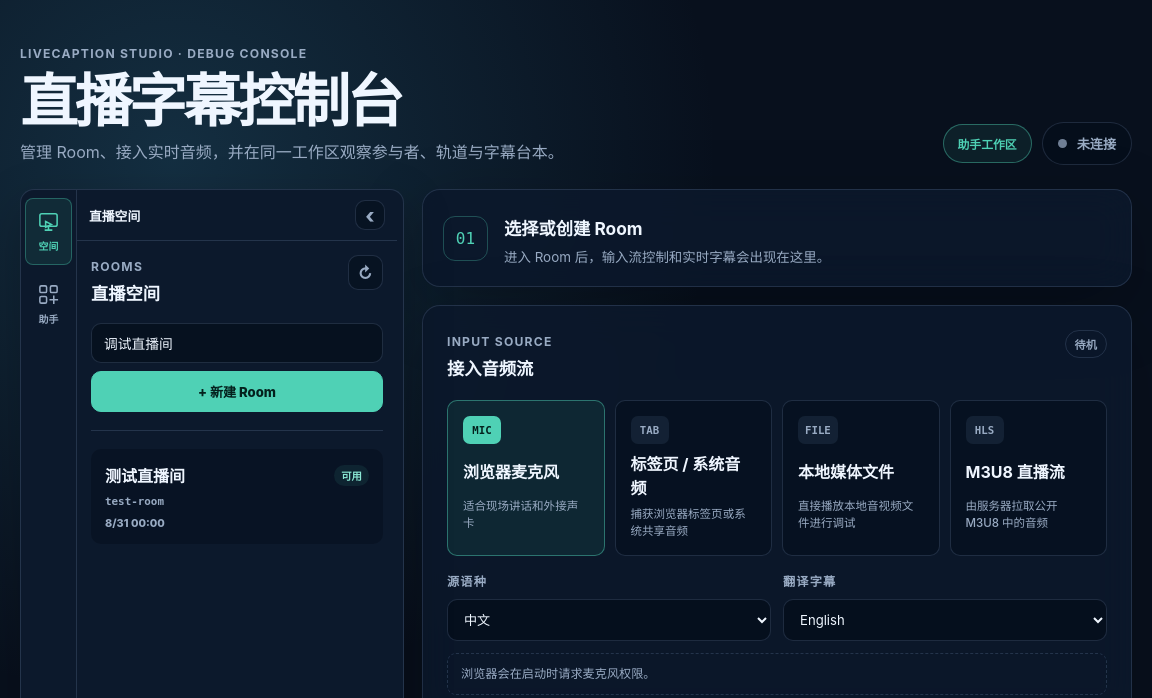
Test: RoomStudio persistent assistant sidebar › keeps audio active when the plugin framework is disabled
Click the button with class "roomListItem".
click(145, 476)  # box [91,449,383,544]
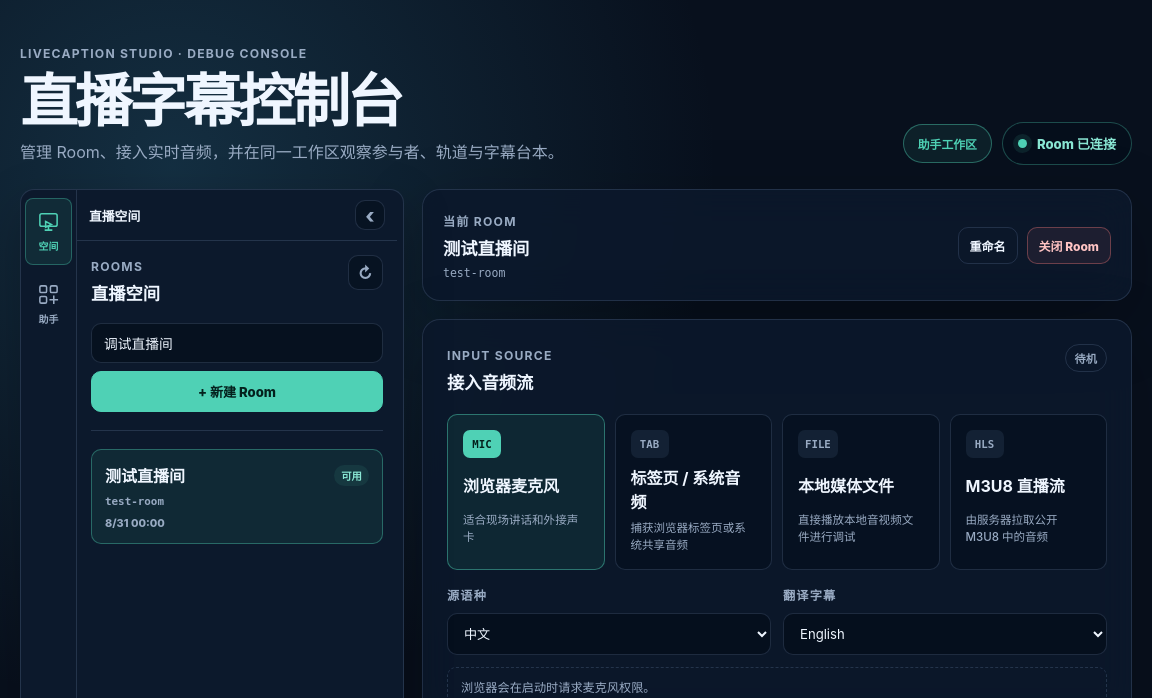
Click the button "TAB 标签页 / 系统音频 捕获浏览器标签页或系统共享音频".
click(693, 492)  # box [614,414,772,570]
(page scrolled)
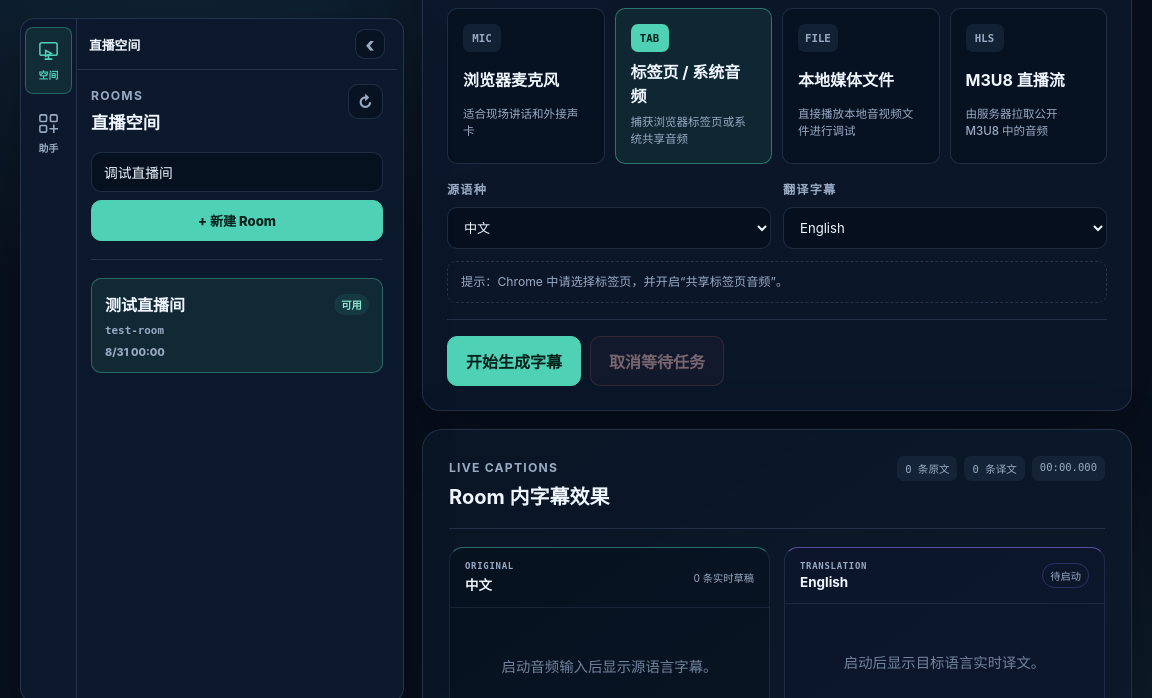
Click the button "开始生成字幕".
click(514, 361)  # box [447,336,581,386]
(page scrolled)
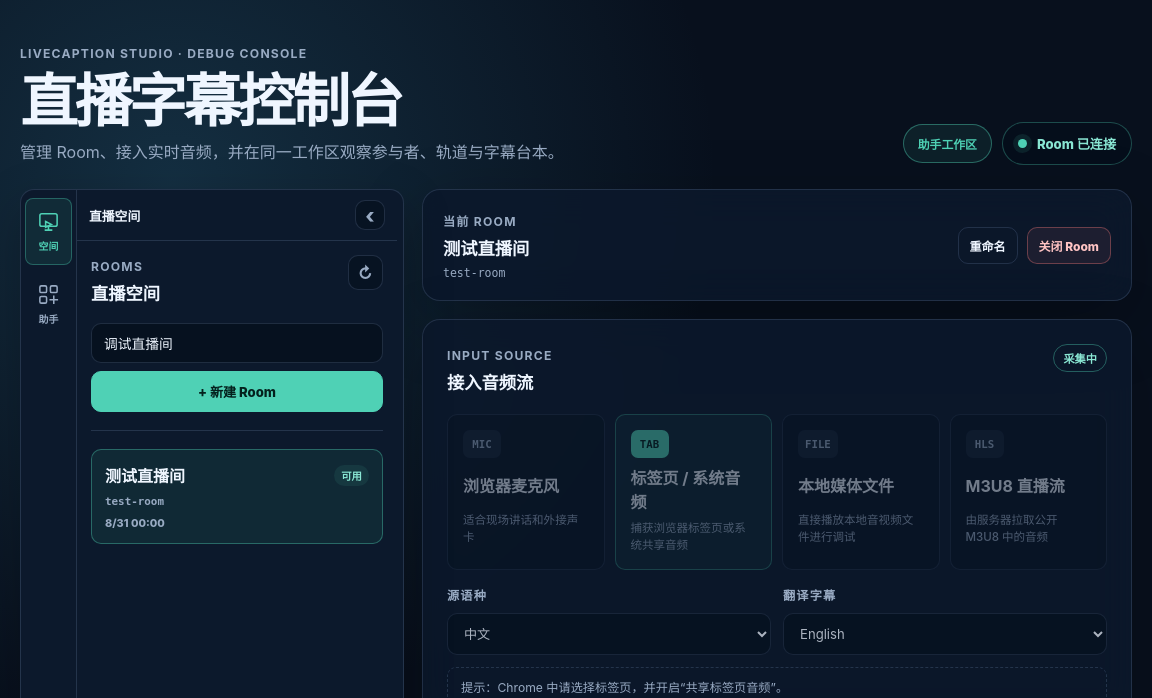
Click the button "助手工作区".
click(947, 144)  # box [903,124,992,163]
(page scrolled)
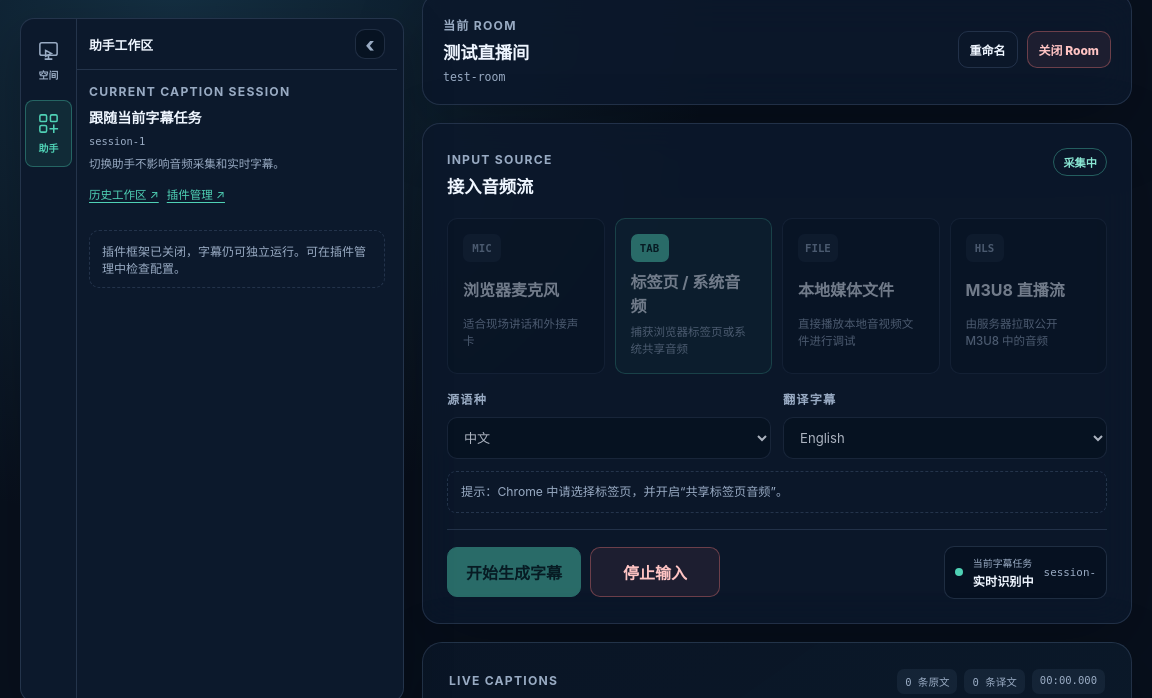
Expected: the element with id "studio-panel-assistants" shows "插件框架已关闭", [102,243,366,275]
